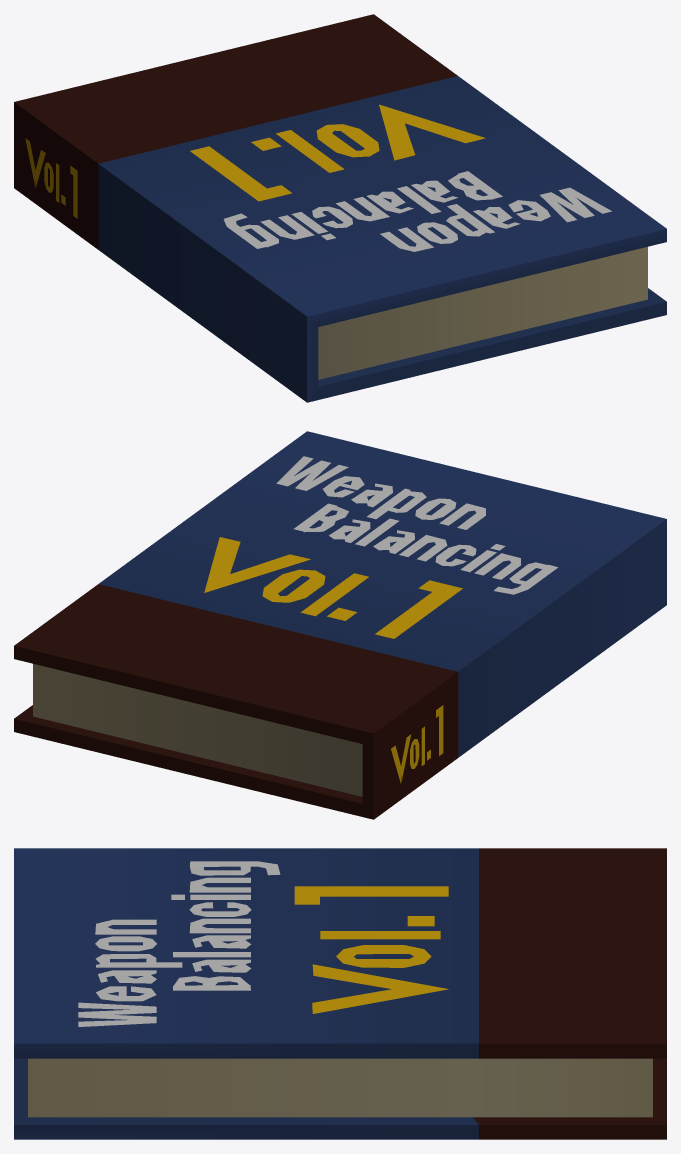
File: hat_weaponbalancing.glb
3 renders of one model, top to bottom at view 1: azimuth 30°, elevation 25°; view 2: azimuth 150°, elevation 25°; view 3: azimuth 270°, elevation 25°, orthographic. The views are drawn at different scales.
Visible parts, largest first — view 1: hat_weaponbalancing; view 2: hat_weaponbalancing; view 3: hat_weaponbalancing.
Boxes of the visible parts, left/top/right/bottom form: hat_weaponbalancing: left=14, top=14, right=666, bottom=402; hat_weaponbalancing: left=14, top=431, right=666, bottom=819; hat_weaponbalancing: left=14, top=848, right=666, bottom=1139.
Size of the model in its own units: 0.2146 by 0.0509 by 0.3005.
